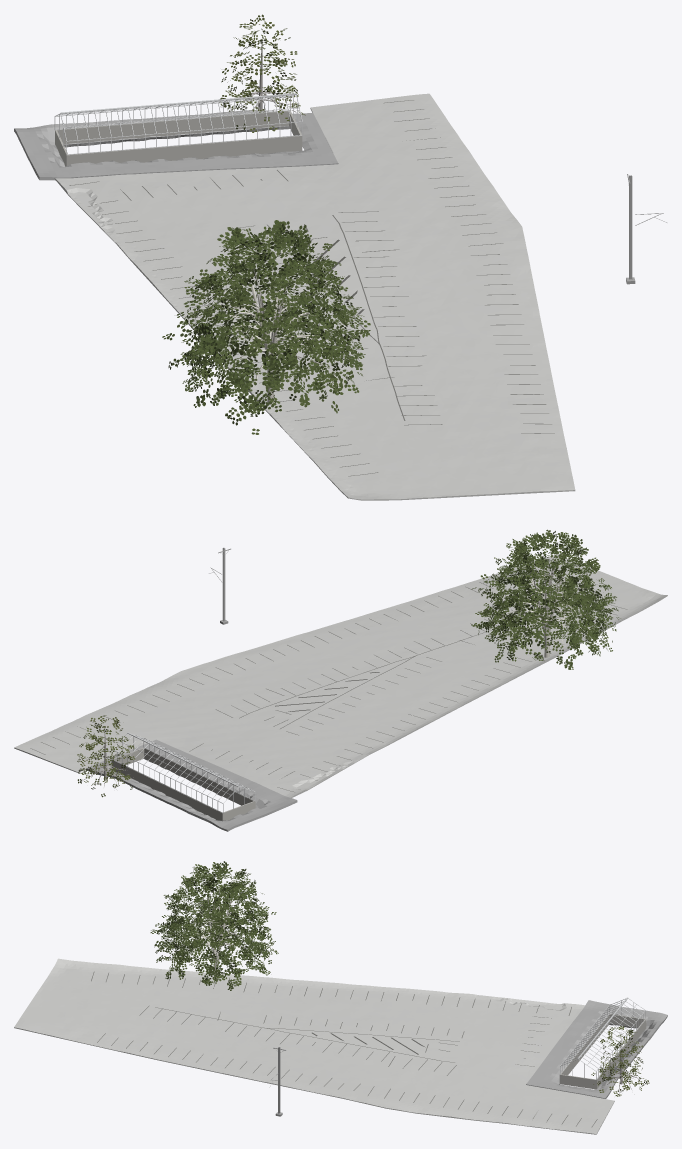
3 renders of one model, top to bottom at view 1: azimuth 30°, elevation 25°; view 2: azimuth 150°, elevation 25°; view 3: azimuth 270°, elevation 25°, orthographic. The views are drawn at different scales.
Visible parts, largest first — view 1: KQ Lot 28S asphalt + ortho paint (OSM 313031565; UNVERIFIED), NT_LondonPlane_0122, Greenhouse_Gable_ShadeGlazed_MSU, GH_pad_ground_only_UNVERIFIED, KR Lot 28S stall stripes (2020 ortho trace; UNVERIFIED), NT_PinOak_0329; view 2: KQ Lot 28S asphalt + ortho paint (OSM 313031565; UNVERIFIED), NT_LondonPlane_0122, Greenhouse_Gable_ShadeGlazed_MSU, GH_pad_ground_only_UNVERIFIED, KR Lot 28S stall stripes (2020 ortho trace; UNVERIFIED), NT_PinOak_0329; view 3: KQ Lot 28S asphalt + ortho paint (OSM 313031565; UNVERIFIED), NT_LondonPlane_0122, GH_pad_ground_only_UNVERIFIED, Greenhouse_Gable_ShadeGlazed_MSU, KR Lot 28S stall stripes (2020 ortho trace; UNVERIFIED), NT_PinOak_0329.
Part boxes in pixels (x1,y1,x2,y2): KQ Lot 28S asphalt + ortho paint (OSM 313031565; UNVERIFIED): [54, 93, 575, 500]; NT_LondonPlane_0122: [162, 220, 370, 434]; Greenhouse_Gable_ShadeGlazed_MSU: [54, 93, 302, 166]; GH_pad_ground_only_UNVERIFIED: [14, 110, 338, 180]; KR Lot 28S stall stripes (2020 ortho trace; UNVERIFIED): [69, 100, 554, 476]; NT_PinOak_0329: [219, 14, 305, 132]; KQ Lot 28S asphalt + ortho paint (OSM 313031565; UNVERIFIED): [14, 554, 667, 797]; NT_LondonPlane_0122: [471, 529, 620, 669]; Greenhouse_Gable_ShadeGlazed_MSU: [111, 732, 255, 820]; GH_pad_ground_only_UNVERIFIED: [86, 739, 297, 831]; KR Lot 28S stall stripes (2020 ortho trace; UNVERIFIED): [30, 582, 627, 792]; NT_PinOak_0329: [77, 715, 135, 797]; KQ Lot 28S asphalt + ortho paint (OSM 313031565; UNVERIFIED): [14, 958, 614, 1134]; NT_LondonPlane_0122: [150, 861, 278, 990]; GH_pad_ground_only_UNVERIFIED: [526, 1000, 667, 1098]; Greenhouse_Gable_ShadeGlazed_MSU: [559, 997, 646, 1089]; KR Lot 28S stall stripes (2020 ortho trace; UNVERIFIED): [91, 971, 597, 1127]; NT_PinOak_0329: [591, 1026, 649, 1096].
Bounding box in the file's own units: 67.32 × 23.25 × 110.
15 materials, 2 textured.
